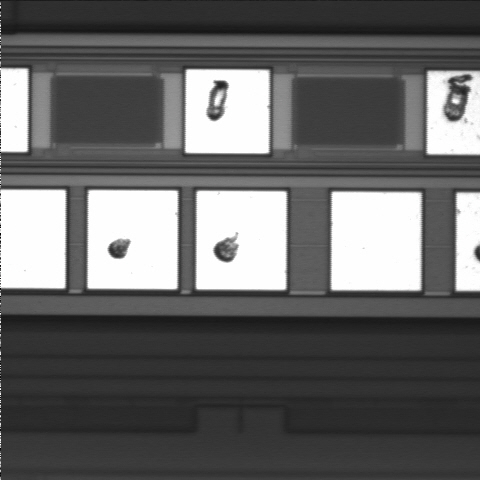pad: (88, 190, 178, 289), (196, 191, 286, 290), (331, 192, 421, 290), (186, 70, 269, 153)
